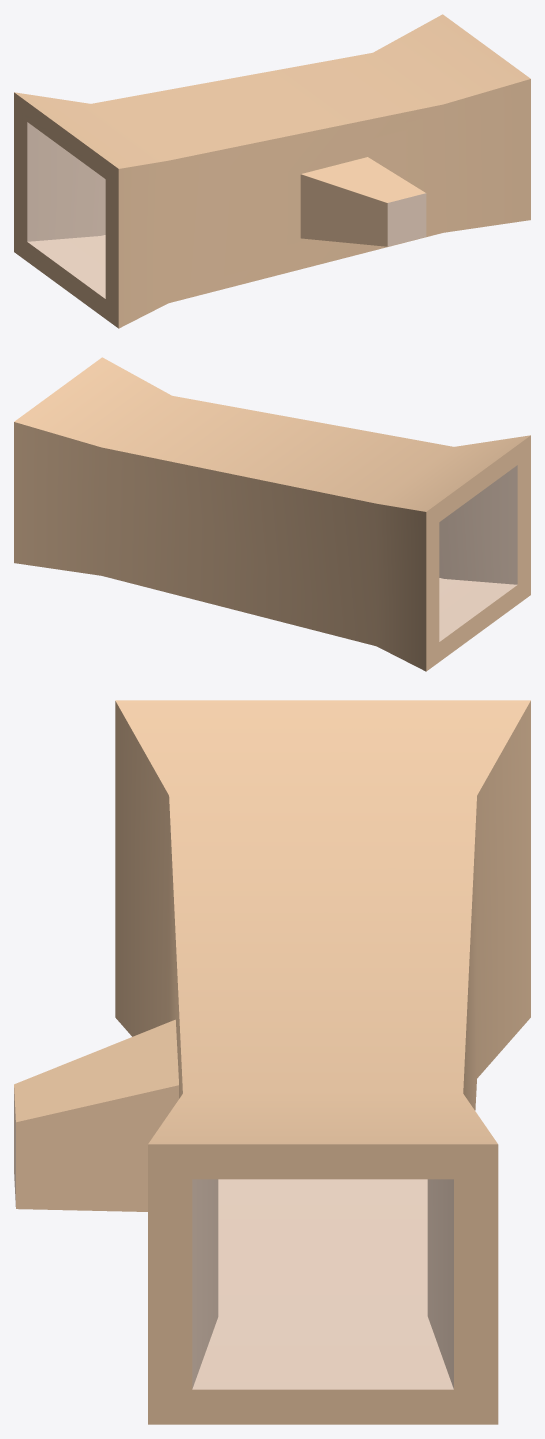
Rendered from log_large.glb.
The picture shows the model from 3 angles, top to bottom: view 1: azimuth 30°, elevation 25°; view 2: azimuth 150°, elevation 25°; view 3: azimuth 270°, elevation 25°; orthographic projection. The views are drawn at different scales.
Parts seen in each view (by area): view 1: log_large; view 2: log_large; view 3: log_large.
Part boxes in pixels (bbox=[...]): log_large: bbox=[14, 14, 530, 328]; log_large: bbox=[14, 357, 530, 671]; log_large: bbox=[14, 700, 530, 1424].
Bounding box in the file's own units: 0.7665 × 0.2783 × 0.4113.
